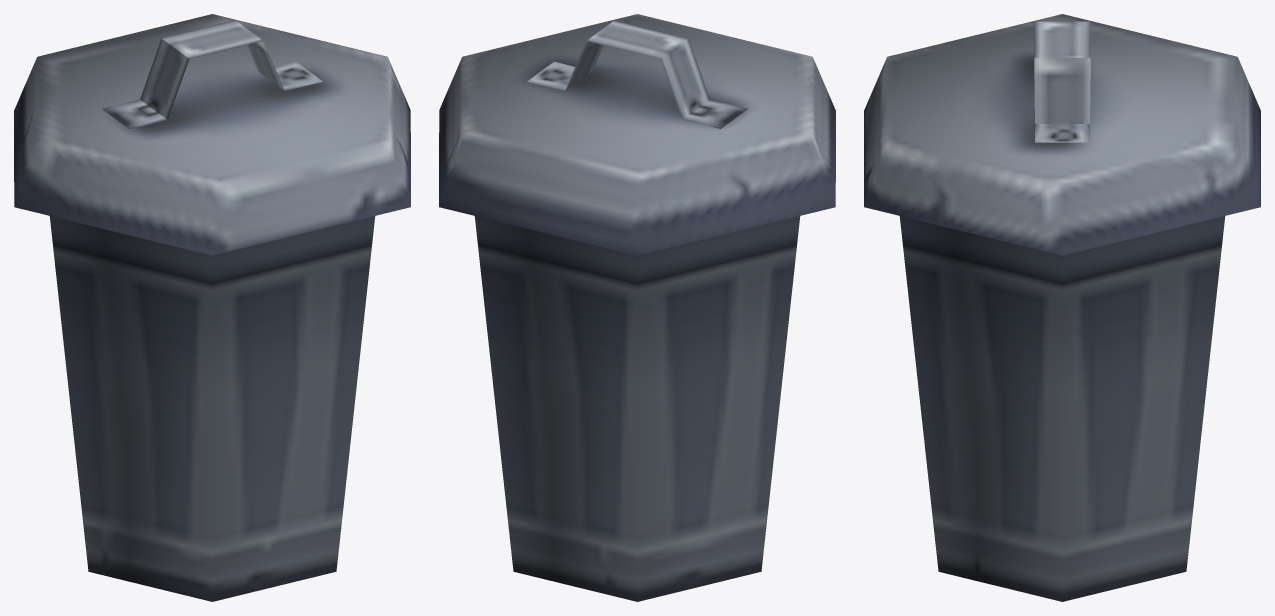
Rendered from Item_Bins.FBX.
3 renders of one model, left to right at view 1: azimuth 30°, elevation 25°; view 2: azimuth 150°, elevation 25°; view 3: azimuth 270°, elevation 25°, orthographic.
Parts seen in each view (by area): view 1: Item_Bins; view 2: Item_Bins; view 3: Item_Bins.
Part boxes in pixels (x1,y1,x2,y2): Item_Bins: (14,14,410,601); Item_Bins: (439,14,835,601); Item_Bins: (864,14,1260,601).
Bounding box in the file's own units: 78.56 × 94.98 × 68.04.
